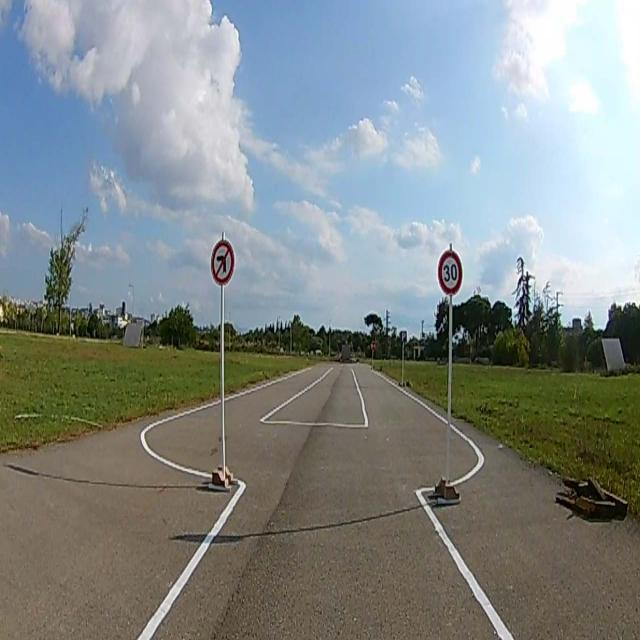30: (439, 252, 462, 293)
soladonulmez: (211, 242, 235, 284)
